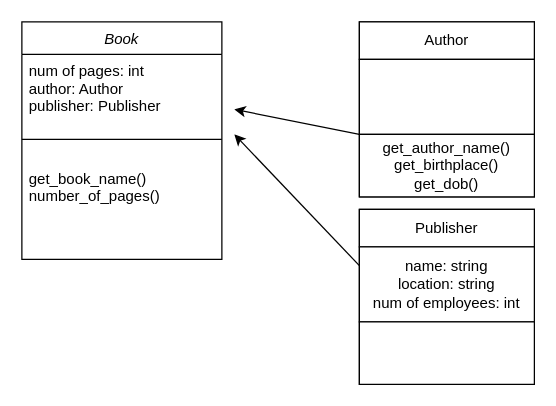
The diagram is 556 pixels wide and 406 high, and some of its shapes have lost their labels. The shapes that lost their labels are listed below. From the top down, each one's centre as x and y in pixels, then its label:
At (x=446, y=96): "name: string place of birth: string dob: Date".
At (x=446, y=352): "get_pub_name() get_location() get_num_of_employees()".
